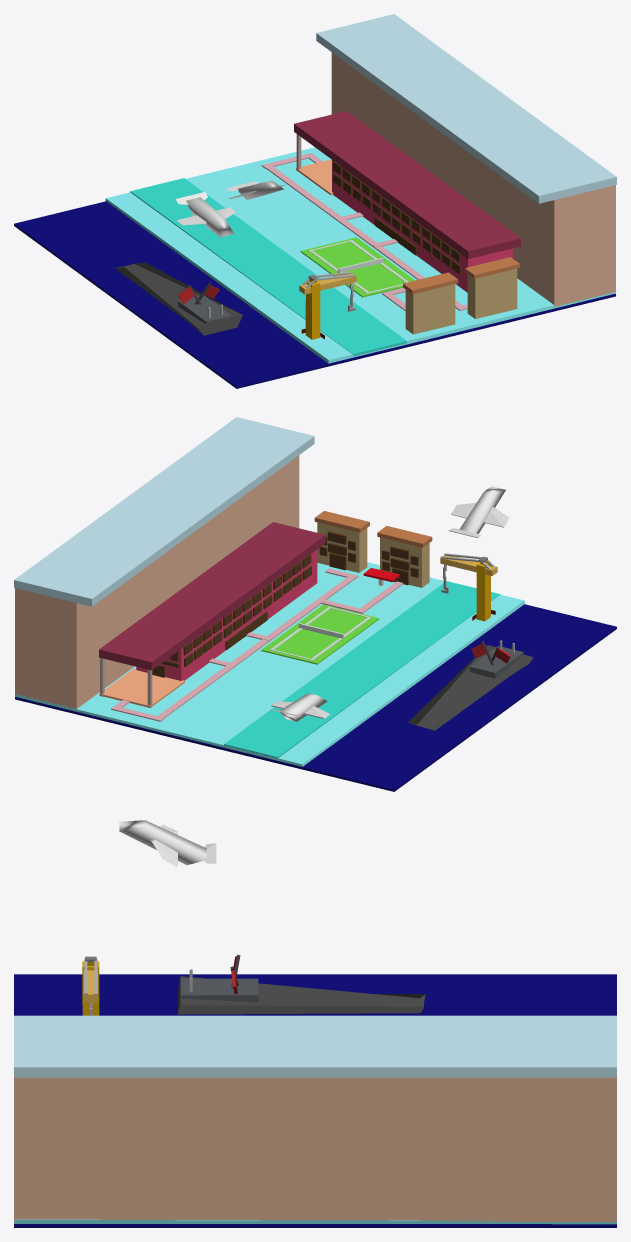
File: son.glb
3 views of the same model, one above another, from view 1: azimuth 30°, elevation 25°; view 2: azimuth 150°, elevation 25°; view 3: azimuth 270°, elevation 25° (orthographic). The views are drawn at different scales.
Visible parts, largest first — view 1: Cube.006, Cube.005, Cube.003, Cube.001, Cube.028, Cube.004, Cube.062, Cube.027, Cube.070, Cube.010, Cube.025, Cube.059 (+6 smaller); view 2: Cube.006, Cube.005, Cube.003, Cube.001, Cube.004, Cube.028, Cube.062, Cube.070, Cube.027, Cube.078, Cube.059, Cube.025 (+8 smaller); view 3: Cube.003, Cube.005, Cube.001, Cube.070, Cube.006, Cube, Cube.071.
Part boxes in pixels (box(x1,y1,x2,y2)): Cube.006: box(105, 147, 616, 363); Cube.005: box(316, 14, 616, 203); Cube.003: box(331, 52, 615, 306); Cube.001: box(14, 201, 615, 388); Cube.028: box(294, 111, 520, 259); Cube.004: box(130, 178, 406, 356); Cube.062: box(300, 237, 414, 297); Cube.027: box(332, 160, 512, 292); Cube.070: box(115, 262, 242, 335); Cube.010: box(405, 284, 455, 334); Cube.025: box(467, 268, 517, 318); Cube.059: box(264, 164, 465, 309); Cube.006: box(15, 562, 524, 766); Cube.005: box(14, 417, 314, 606); Cube.003: box(15, 455, 299, 708); Cube.001: box(15, 604, 616, 791); Cube.004: box(224, 581, 500, 758); Cube.028: box(99, 522, 325, 670); Cube.062: box(261, 604, 379, 664); Cube.070: box(408, 645, 533, 730); Cube.027: box(136, 549, 317, 680); Cube.078: box(99, 668, 184, 707); Cube.059: box(154, 574, 357, 719); Cube.025: box(317, 522, 367, 572); Cube.003: box(14, 1077, 616, 1221); Cube.005: box(14, 1015, 616, 1077); Cube.001: box(14, 974, 616, 1227); Cube.070: box(177, 976, 425, 1014); Cube.006: box(14, 1219, 616, 1224); Cube: box(119, 820, 206, 864); Cube.071: box(181, 978, 258, 1002).
Bounding box in the file's own units: 670 × 257 × 679.
